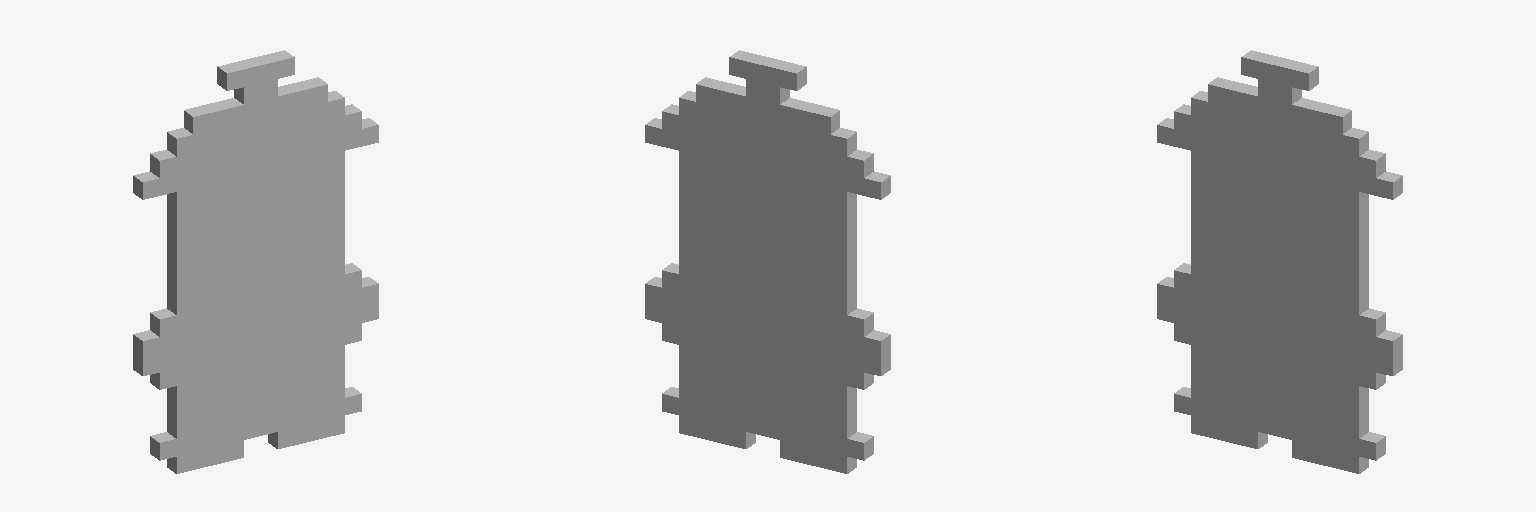
The model's file is бабка шаг2.obj.
3 renders of one model, left to right at view 1: azimuth 30°, elevation 25°; view 2: azimuth 150°, elevation 25°; view 3: azimuth 330°, elevation 25°, orthographic.
Parts seen in each view (by area): view 1: object 1; view 2: object 1; view 3: object 1.
Boxes of the visible parts, <box> form: object 1: <box>133,50,378,473</box>; object 1: <box>645,50,890,473</box>; object 1: <box>1157,50,1402,473</box>.
Bounding box in the file's own units: 1.4 × 2.2 × 0.1.